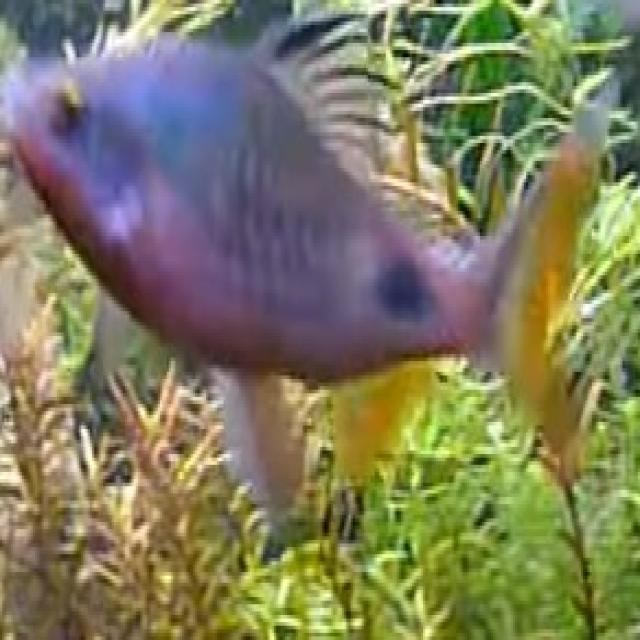Black-Spotted-Barb: (0, 0, 627, 583)
